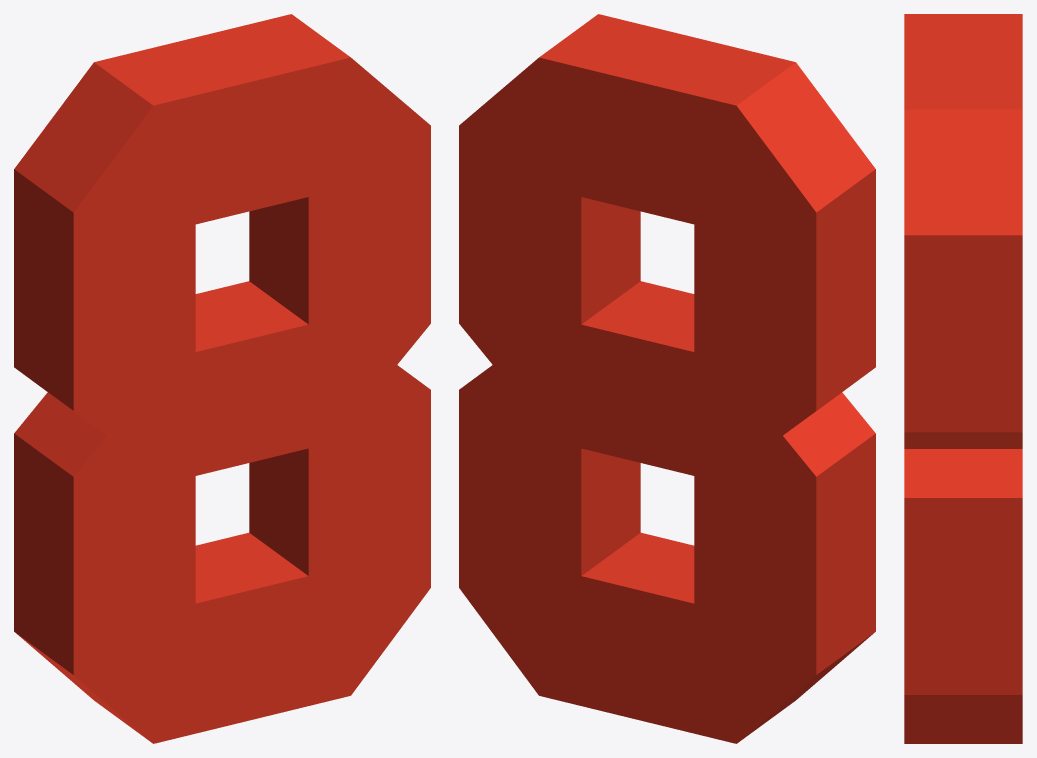
The model's file is Icon_Number_8.fbx.
3 views of the same model, side by side, from view 1: azimuth 30°, elevation 25°; view 2: azimuth 150°, elevation 25°; view 3: azimuth 270°, elevation 25° (orthographic).
Visible parts, largest first — view 1: Icon_Number_8; view 2: Icon_Number_8; view 3: Icon_Number_8.
Boxes of the visible parts, bbox=[...] form: Icon_Number_8: bbox=[14, 14, 430, 743]; Icon_Number_8: bbox=[459, 14, 875, 743]; Icon_Number_8: bbox=[904, 14, 1022, 743].
Size of the model in its own units: 41.87 by 71.49 by 12.06.
